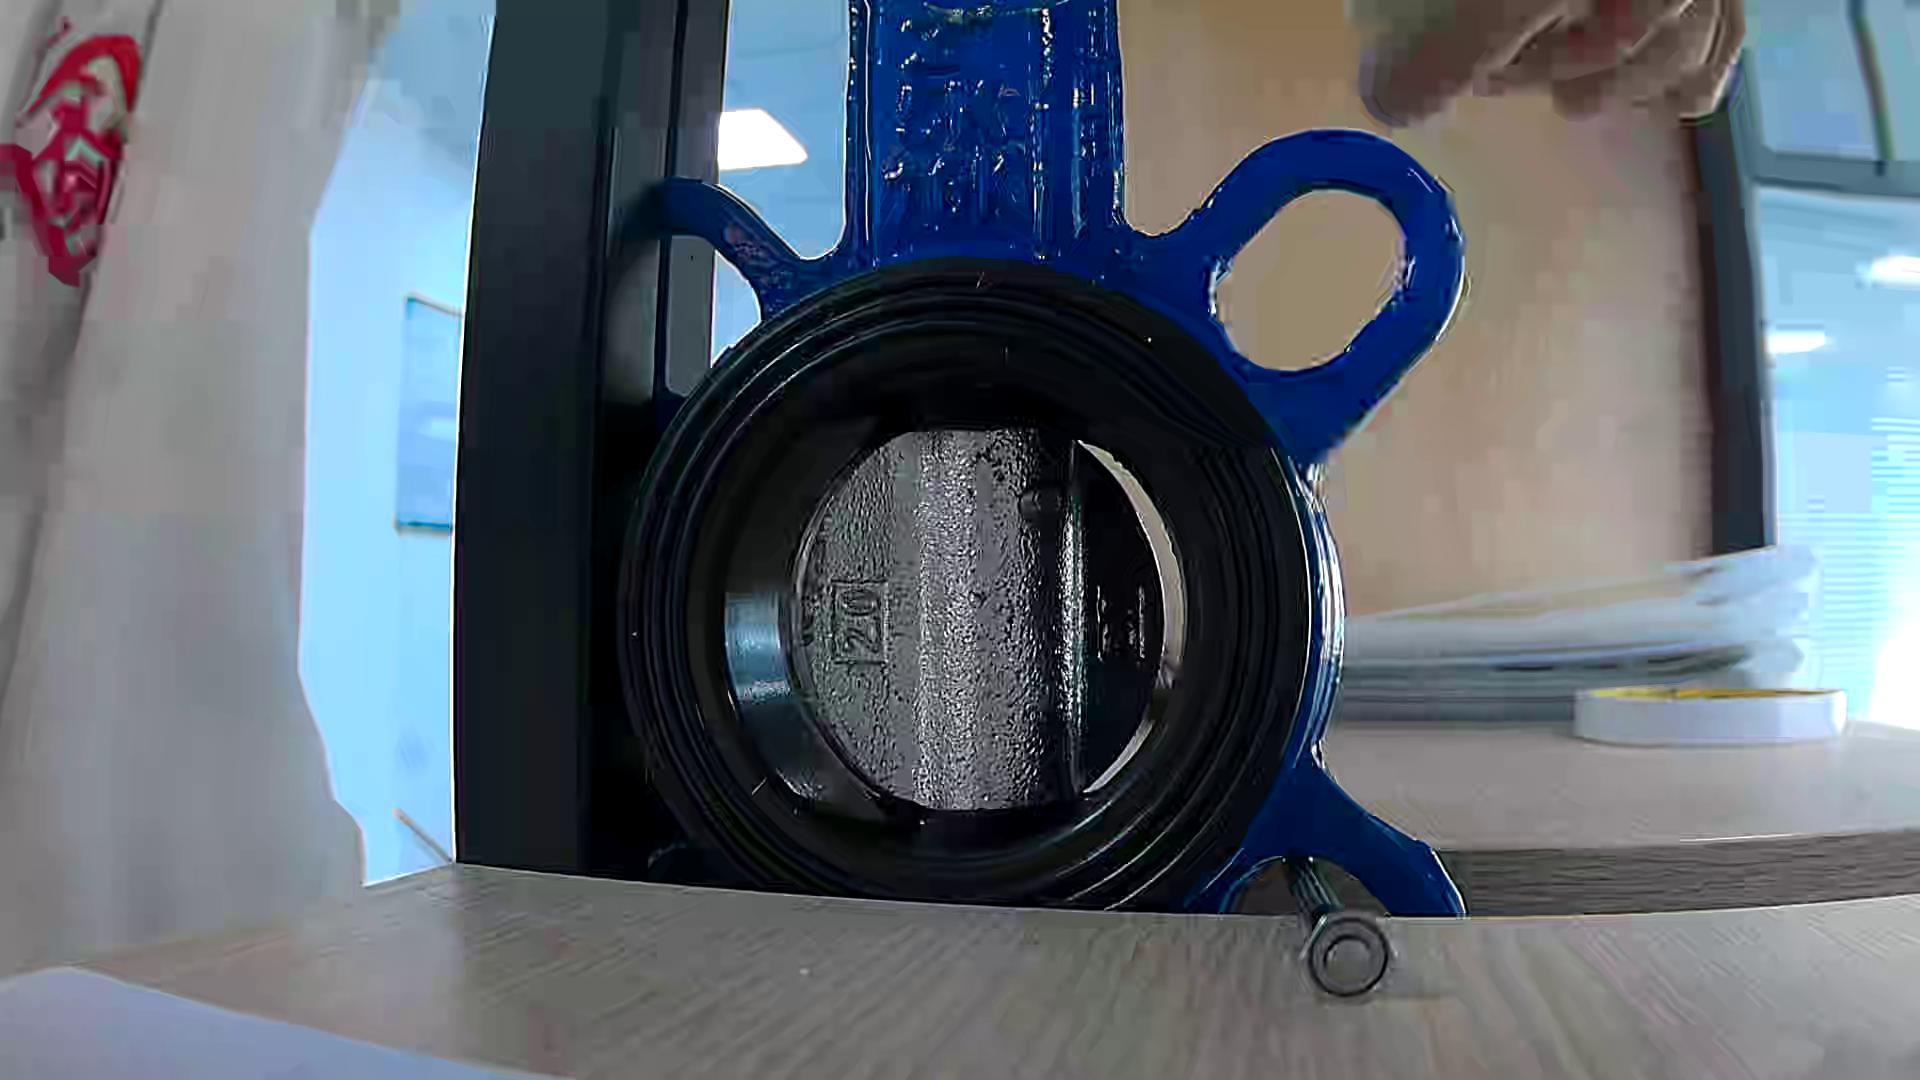valve: (791, 427, 1167, 814)
